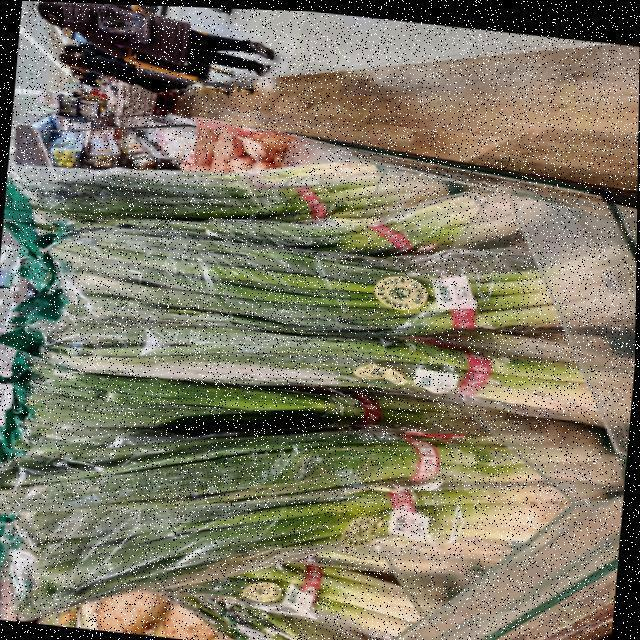green_onion: (51, 303, 636, 441), (28, 434, 619, 564), (29, 237, 640, 319), (8, 160, 433, 235)
